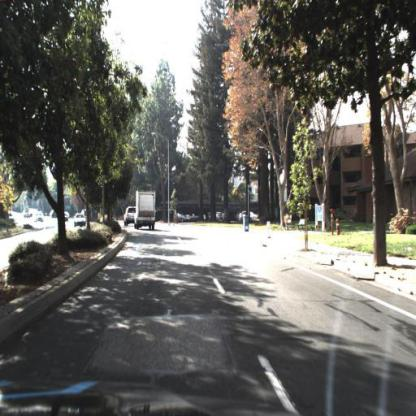car: (123, 203, 139, 229), (71, 210, 89, 230)
truck: (132, 189, 161, 234)
